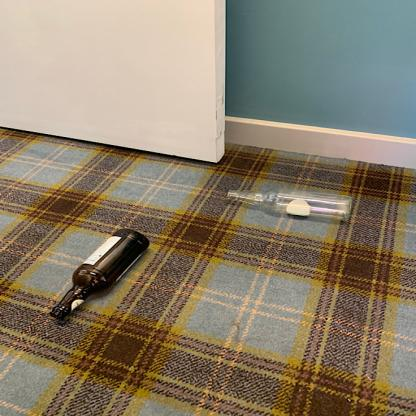trash: (48, 228, 154, 321), (228, 190, 354, 224)
